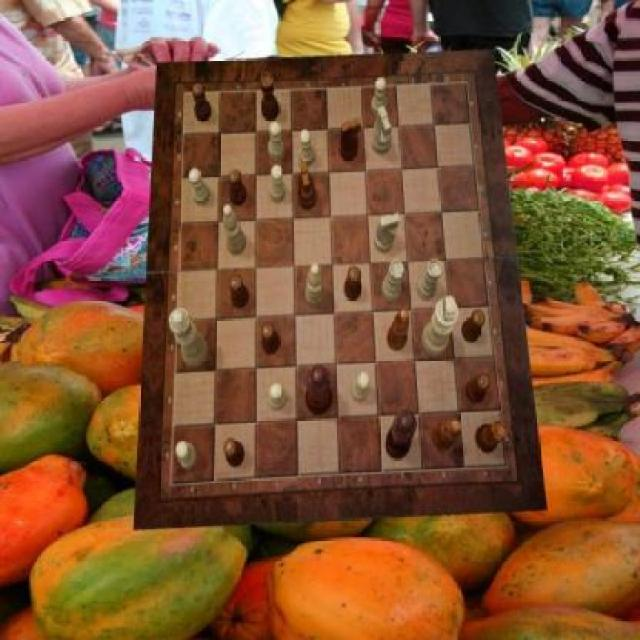bishop: (432, 418, 462, 452), (388, 308, 410, 350)
black-bishop: (386, 409, 417, 460)
black-king: (298, 160, 318, 211), (338, 119, 359, 162)
black-knight: (463, 309, 486, 343), (192, 83, 212, 122), (466, 374, 491, 404), (229, 276, 249, 310), (230, 170, 248, 206), (344, 266, 362, 301), (262, 323, 280, 355), (224, 440, 244, 468)
black-pawn: (306, 365, 333, 417)
black-queen: (475, 419, 508, 453), (260, 71, 280, 120)
black-rook: (223, 204, 247, 256), (306, 264, 326, 308)
white-bishop: (422, 297, 459, 357)
white-king: (375, 214, 400, 254), (372, 106, 392, 154)
white-knight: (189, 170, 212, 206), (370, 78, 388, 118), (268, 123, 284, 162), (298, 129, 314, 167), (270, 165, 286, 202), (351, 371, 370, 402), (176, 442, 197, 469), (268, 383, 287, 411)
white-pawn: (169, 308, 209, 368)
white-queen: (417, 260, 443, 302), (382, 258, 404, 301)
